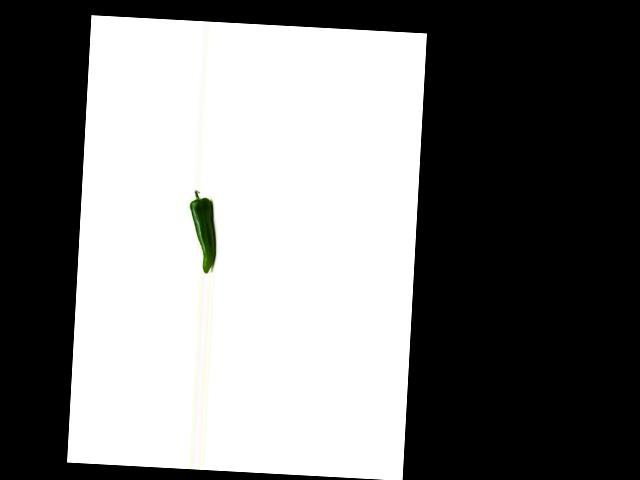bell_pepper: (184, 187, 220, 274)
